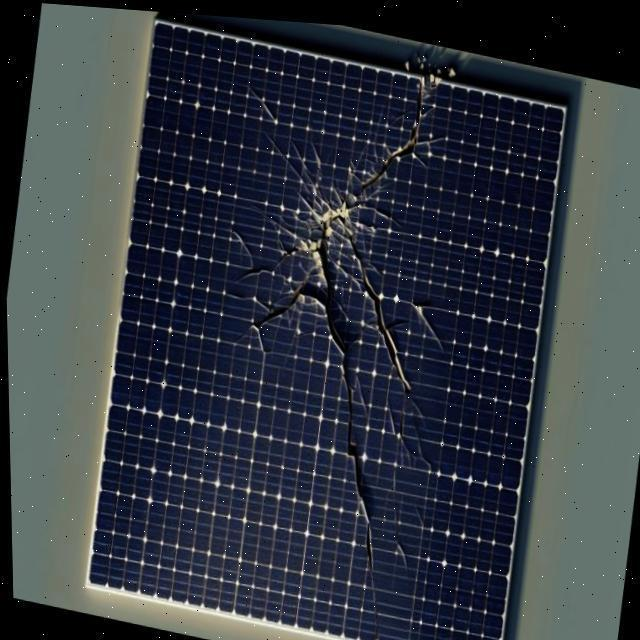Anomaly Solar Panel: (86, 18, 567, 640)
Structural Damage: (320, 168, 468, 467), (357, 75, 463, 216), (337, 350, 380, 635), (285, 244, 367, 355), (230, 285, 320, 366), (234, 240, 306, 289), (263, 130, 308, 181), (410, 293, 443, 348), (391, 461, 407, 573), (406, 399, 431, 467), (302, 204, 333, 253), (248, 81, 279, 120), (230, 224, 256, 268), (224, 286, 271, 309), (342, 318, 369, 352), (372, 97, 386, 159), (353, 367, 369, 412), (289, 135, 310, 169), (335, 190, 357, 221), (411, 394, 428, 423), (386, 395, 395, 430), (412, 500, 424, 523), (386, 315, 408, 326), (276, 235, 285, 248)
